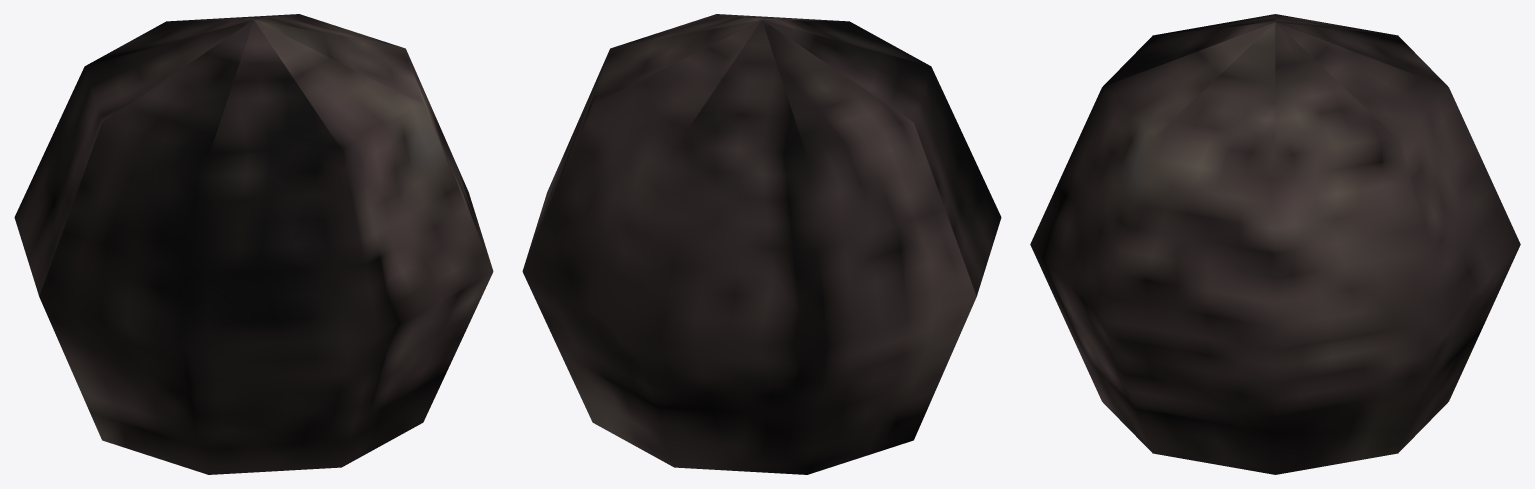
File: cannon_ball.dae
3 views of the same model, side by side, from view 1: azimuth 30°, elevation 25°; view 2: azimuth 150°, elevation 25°; view 3: azimuth 270°, elevation 25° (orthographic).
Visible parts, largest first — view 1: cannon_ball; view 2: cannon_ball; view 3: cannon_ball.
Boxes of the visible parts, x1,y1,x2,y2 form: cannon_ball: (14, 14, 493, 474); cannon_ball: (522, 14, 1001, 474); cannon_ball: (1030, 14, 1520, 474).
Bounding box in the file's own units: 0.7323 × 0.7323 × 0.7323.
